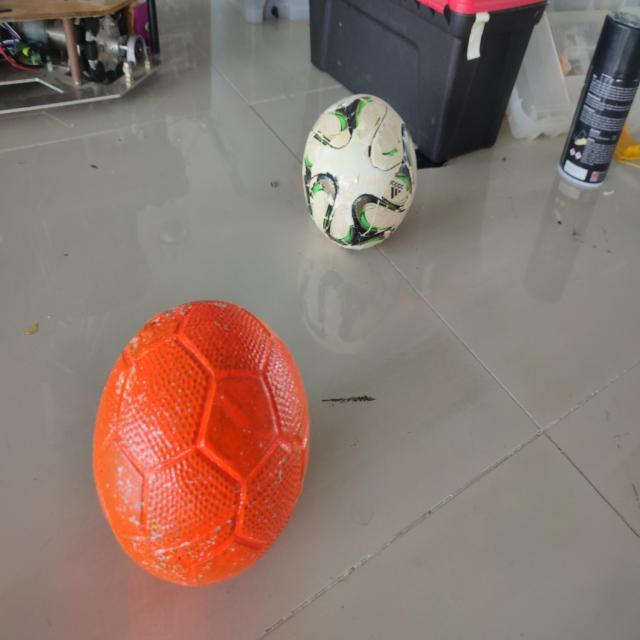bola: (90, 296, 314, 592)
